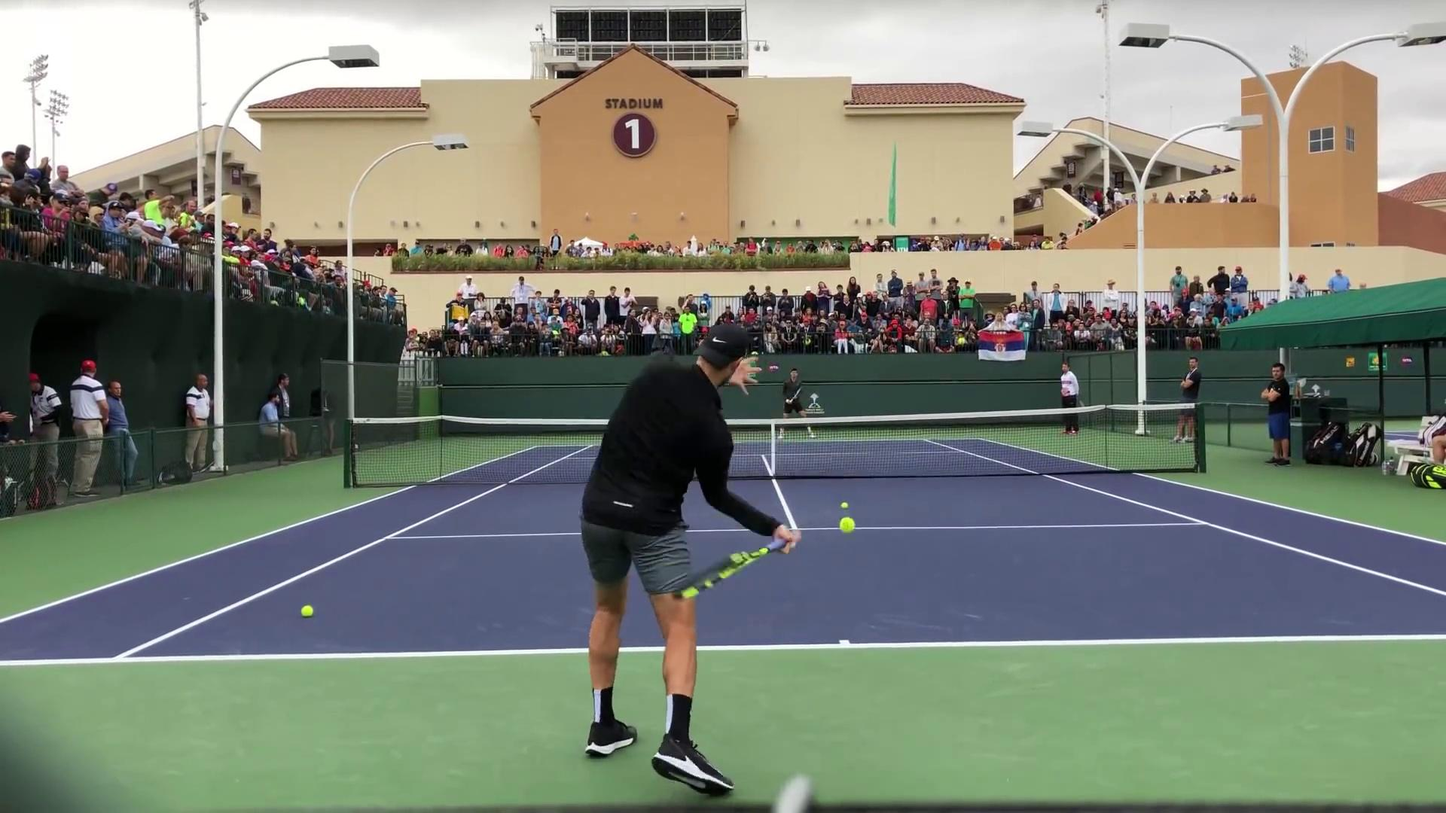ball: (839, 516, 857, 534), (298, 605, 314, 617), (840, 501, 849, 510)
